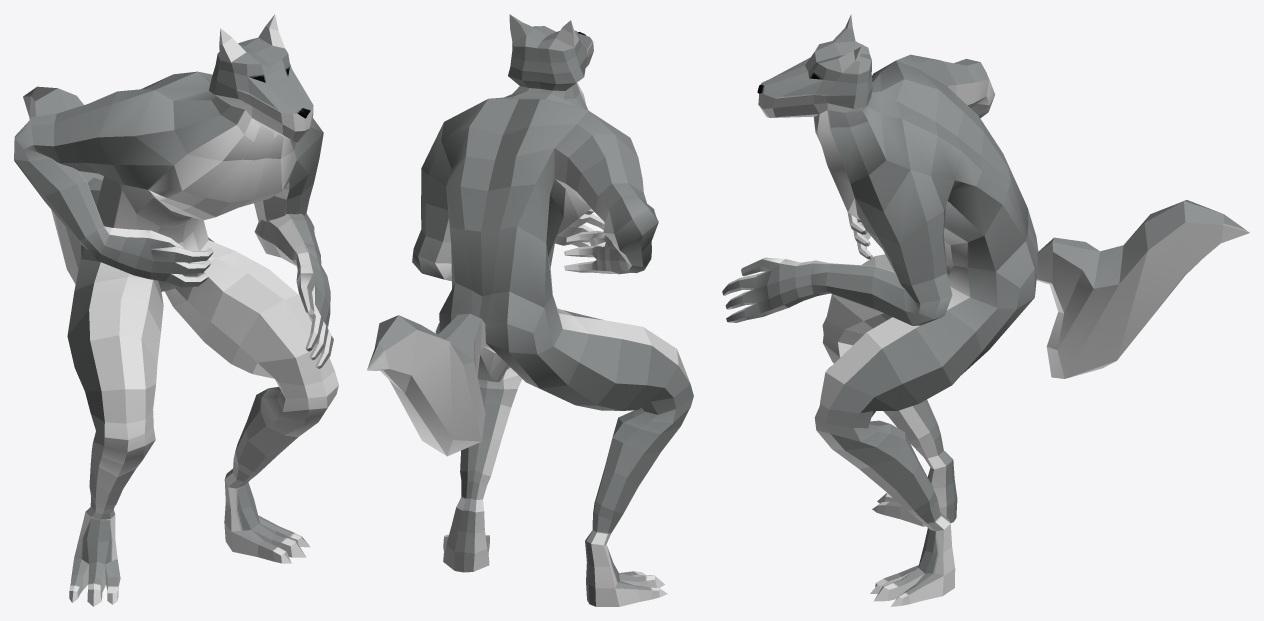
The model's file is WolfIdle_(59).obj.
3 renders of one model, left to right at view 1: azimuth 30°, elevation 25°; view 2: azimuth 150°, elevation 25°; view 3: azimuth 270°, elevation 25°, orthographic. The views are drawn at different scales.
Visible parts, largest first — view 1: Box001; view 2: Box001; view 3: Box001.
Boxes of the visible parts, x1,y1,x2,y2 form: Box001: [14, 14, 338, 606]; Box001: [367, 14, 693, 606]; Box001: [722, 14, 1249, 606].
Bounding box in the file's own units: 67.34 × 131 × 116.
